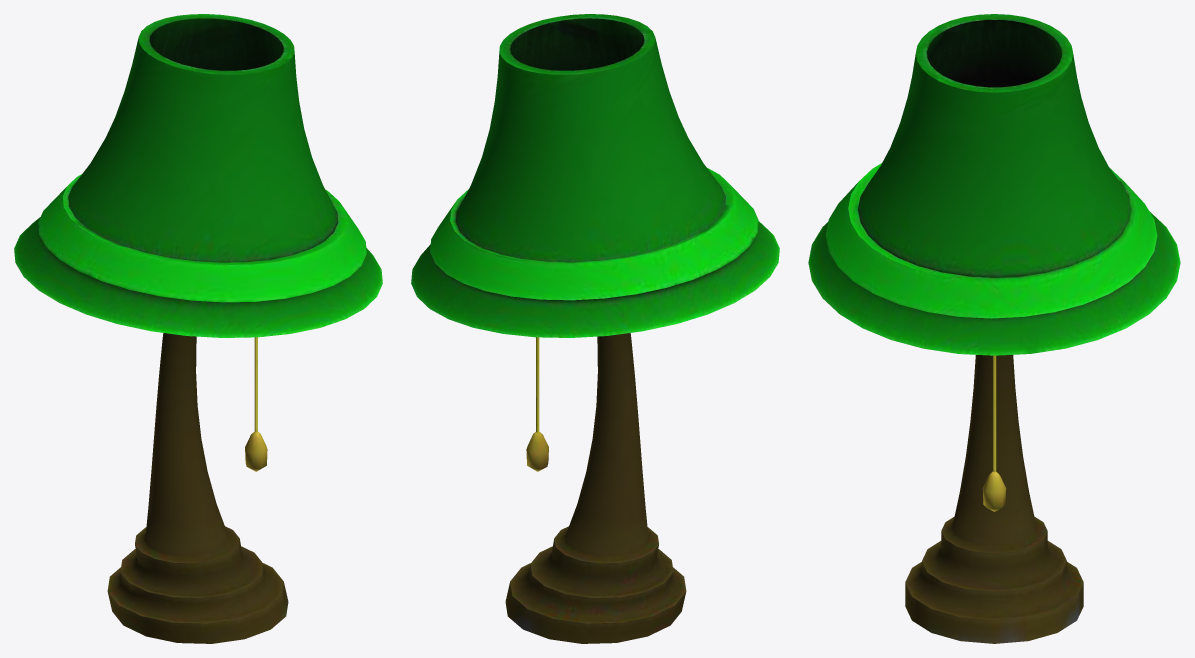
Rendered from 3D_Lamp.FBX.
3 renders of one model, left to right at view 1: azimuth 30°, elevation 25°; view 2: azimuth 150°, elevation 25°; view 3: azimuth 270°, elevation 25°, orthographic.
Visible parts, largest first — view 1: 3D_Lamp; view 2: 3D_Lamp; view 3: 3D_Lamp.
Part boxes in pixels (x1,y1,x2,y2): 3D_Lamp: [14, 14, 382, 643]; 3D_Lamp: [411, 14, 779, 643]; 3D_Lamp: [808, 14, 1180, 643].
Size of the model in its own units: 123 by 207 by 123.
